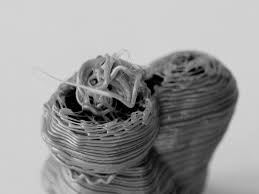fail: (39, 53, 153, 134), (147, 38, 238, 99), (53, 159, 121, 187)
